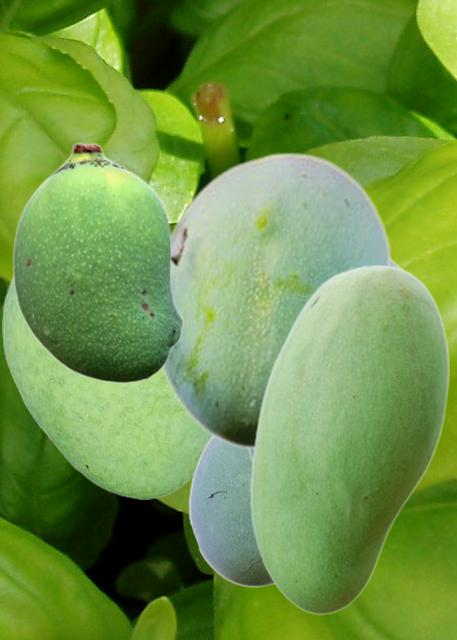green_mango: (249, 264, 448, 614), (160, 151, 391, 448), (2, 273, 209, 498), (12, 142, 183, 383), (188, 437, 274, 586)
